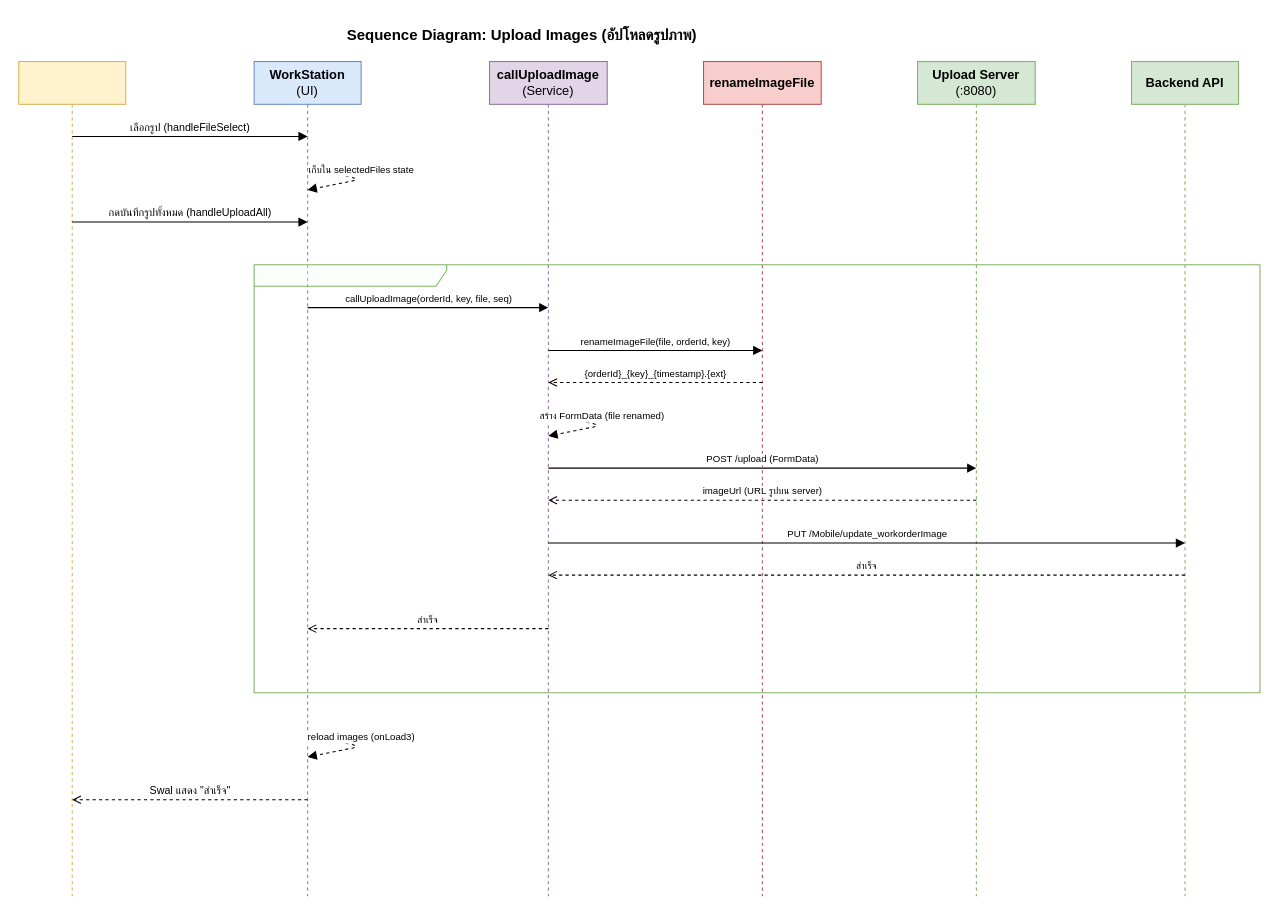
Some shapes in this 1279 by 915 pixel diagram are drawn without their labels. Here are the shapes that lost their labels. From the top down, the box of each, then its label:
(18, 60, 126, 896): User
(253, 264, 1260, 693): loop [แต่ละรูปที่เลือก]
